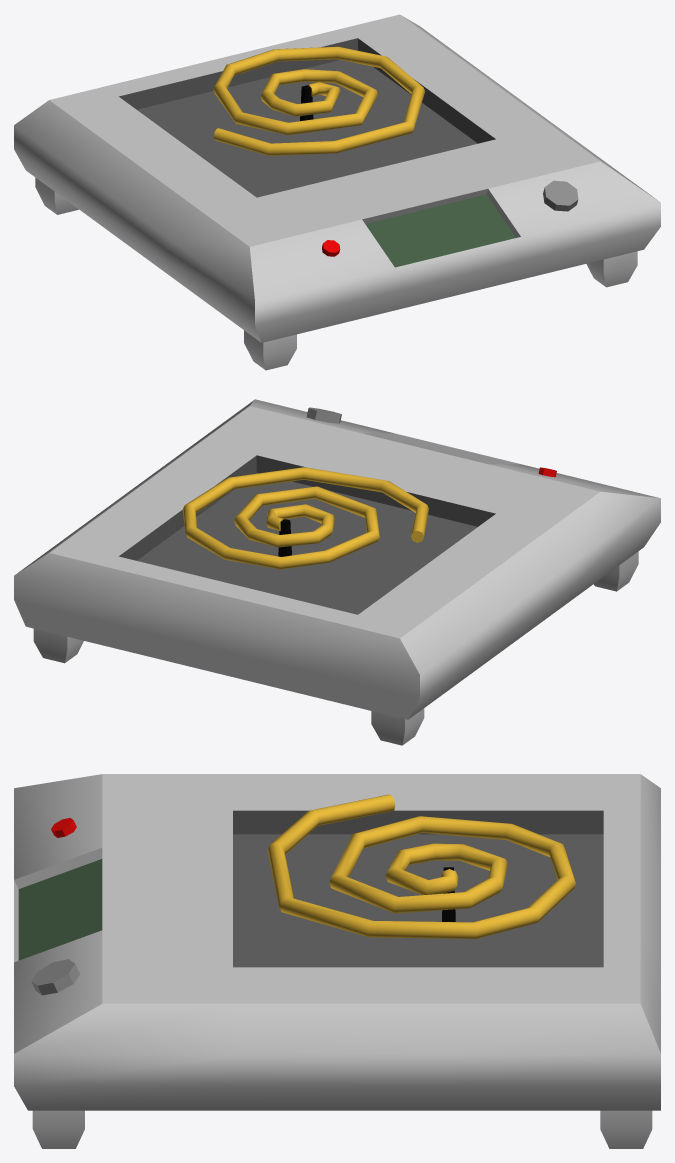
Rendered from Burner Asset.fbx.
The picture shows the model from 3 angles, top to bottom: view 1: azimuth 30°, elevation 25°; view 2: azimuth 150°, elevation 25°; view 3: azimuth 270°, elevation 25°; orthographic projection. The views are drawn at different scales.
Parts seen in each view (by area): view 1: pCube6, extrudedSurface2, pCylinder1; view 2: pCube6, extrudedSurface2; view 3: pCube6, extrudedSurface2, pCylinder1.
Boxes of the visible parts, x1=… form: pCube6: x1=14, y1=14, x2=660, y2=370; extrudedSurface2: x1=213, y1=46, x2=425, y2=155; pCylinder1: x1=543, y1=180, x2=578, y2=211; pCube6: x1=14, y1=399, x2=660, y2=745; extrudedSurface2: x1=182, y1=467, x2=428, y2=569; pCube6: x1=14, y1=774, x2=660, y2=1148; extrudedSurface2: x1=267, y1=794, x2=575, y2=938; pCylinder1: x1=31, y1=959, x2=80, y2=995.
Size of the model in its own units: 26.13 by 7.89 by 26.88.
